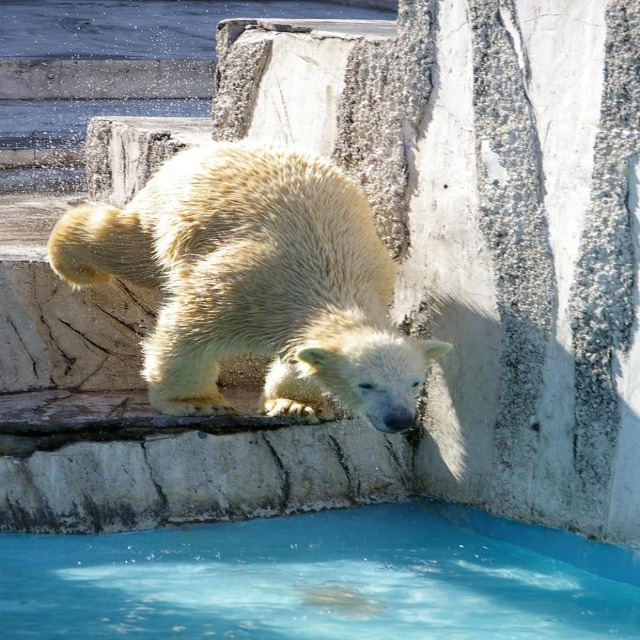Polar bear: (51, 136, 446, 436)
